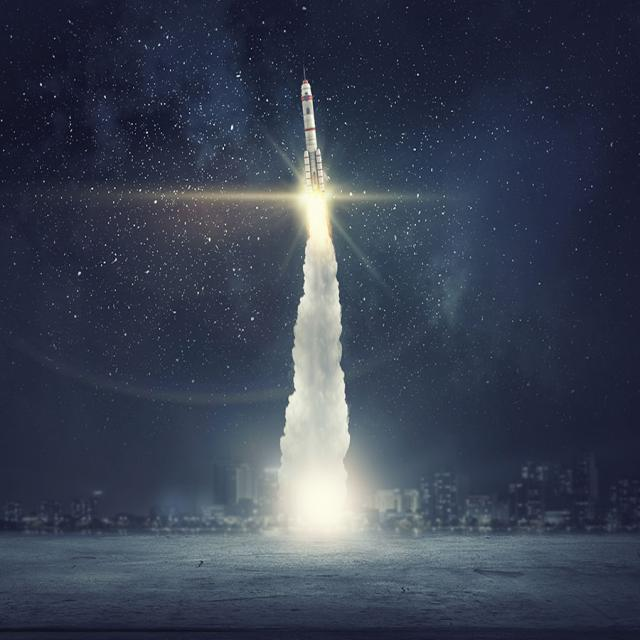medium_debris: (301, 183, 331, 250)
rocket: (296, 62, 331, 199)
